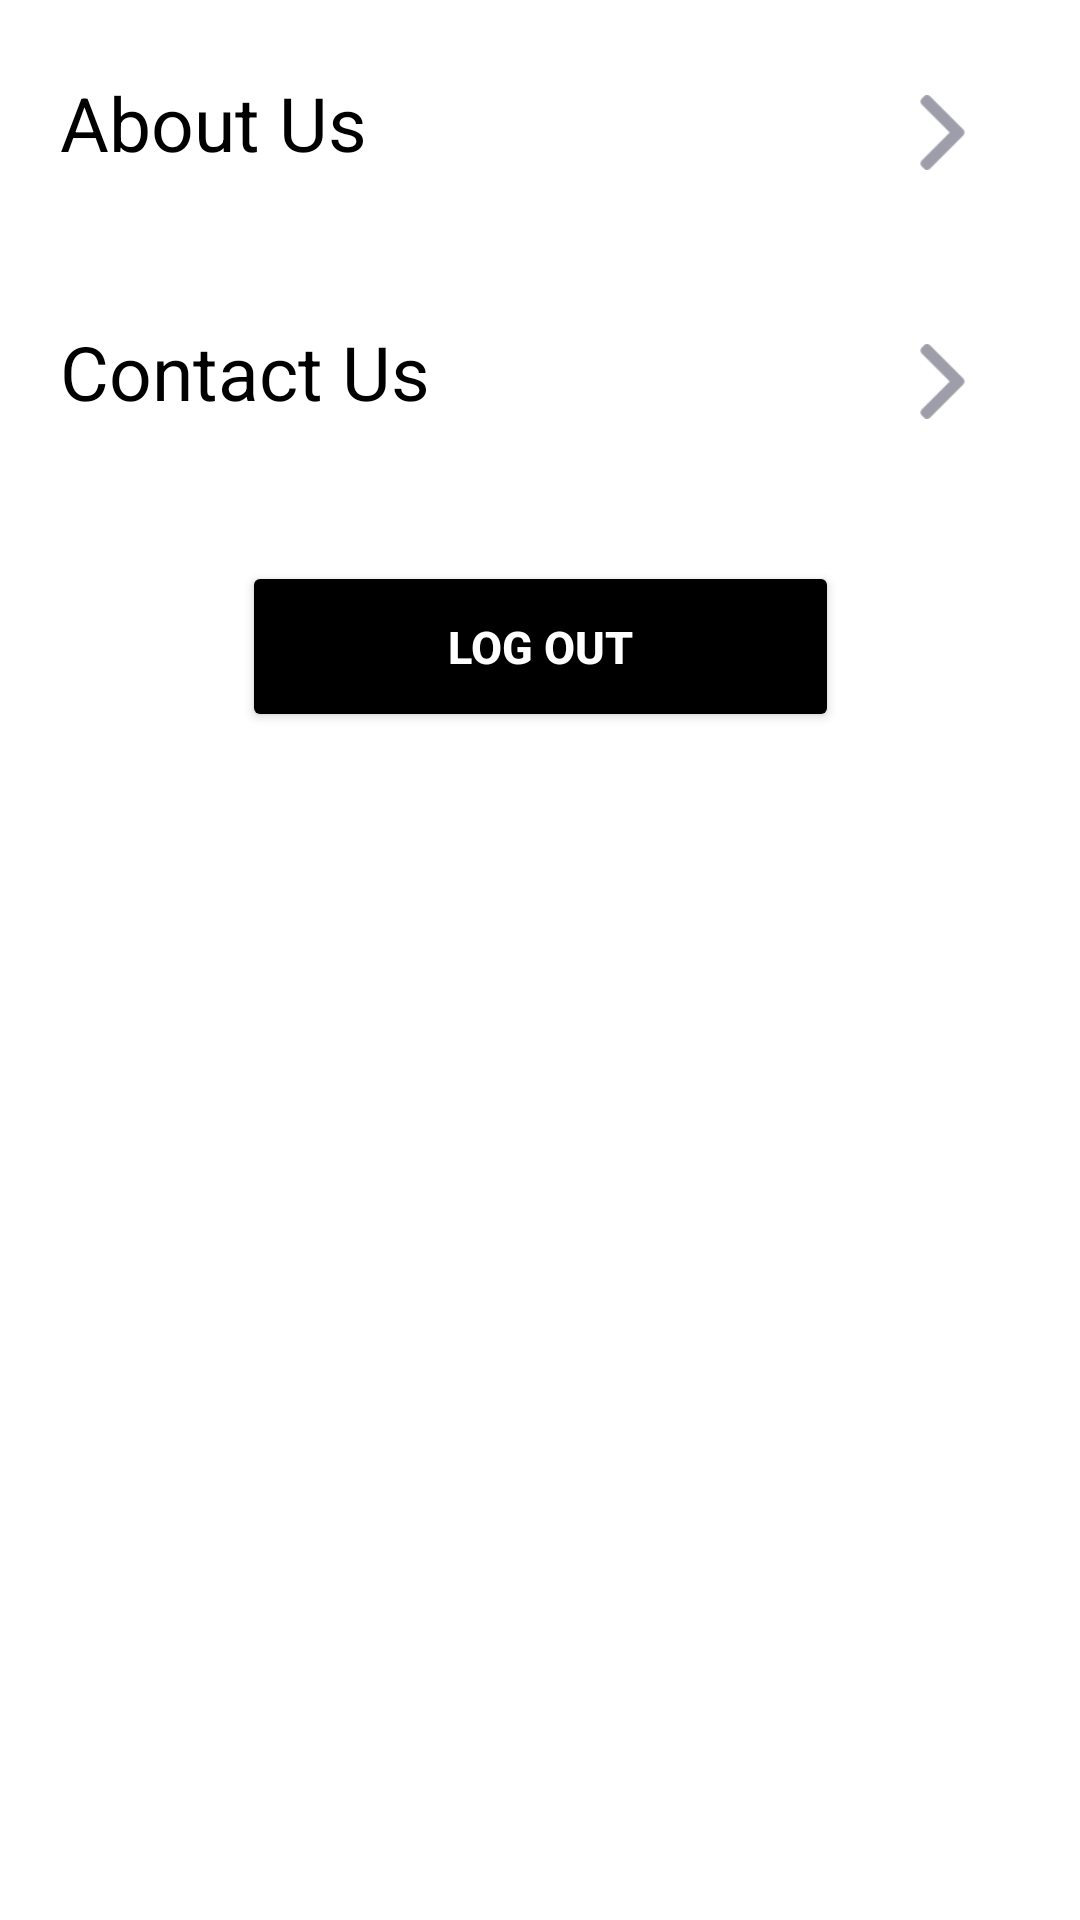

Named icons in this screenshot (1080px×1920px) and their bounding boxes, bbox=(x1, y1, x2, y2):
arrow: bbox=(920, 95, 965, 170), bbox=(920, 344, 965, 419)
